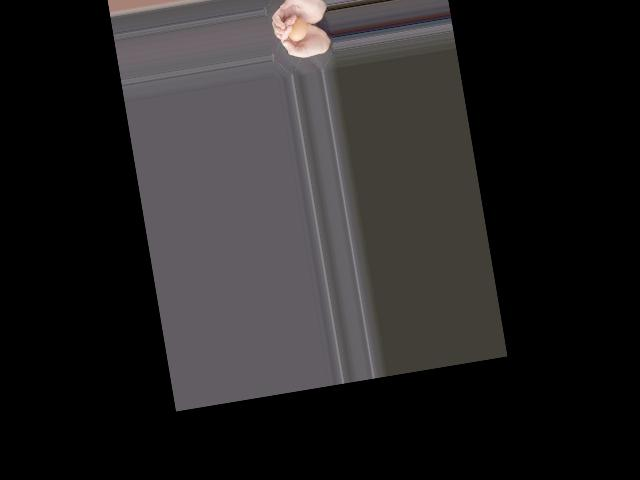egg: (286, 15, 309, 42)
